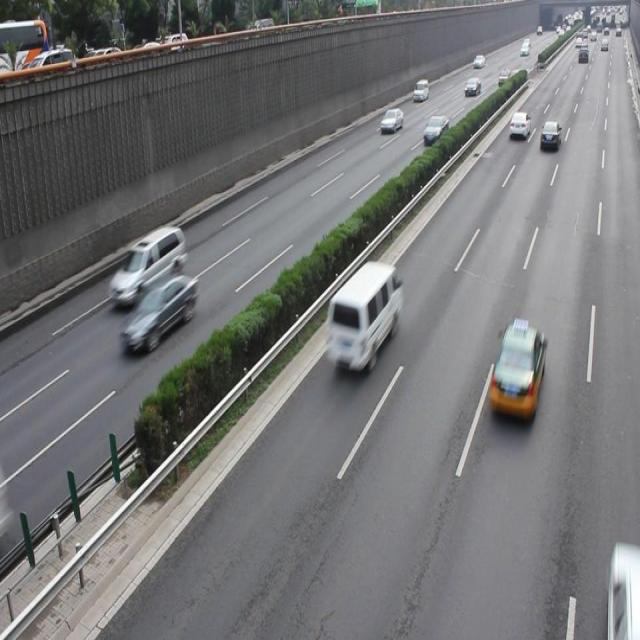car: (120, 273, 197, 354), (486, 321, 544, 424)
truck: (324, 262, 399, 372), (108, 224, 185, 305)
